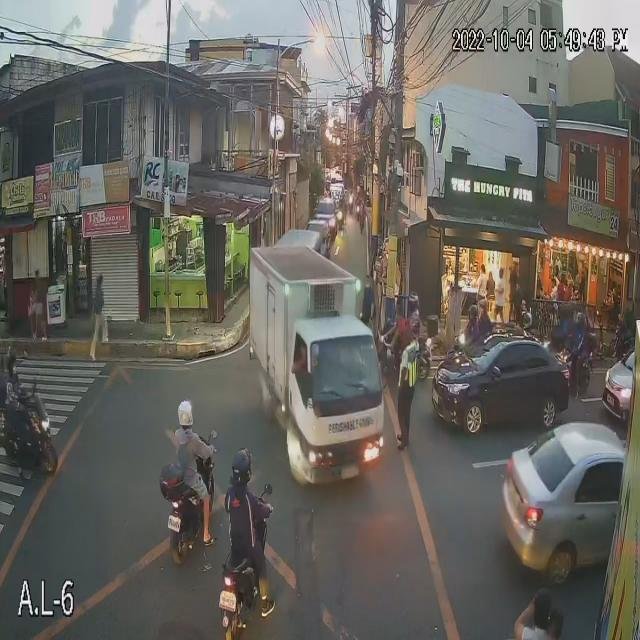helmet: (230, 449, 253, 487), (179, 401, 193, 431), (7, 348, 16, 379), (407, 291, 419, 314), (576, 316, 589, 335), (478, 298, 489, 315), (466, 306, 477, 323)
motorcycle: (218, 484, 273, 640), (161, 441, 217, 562), (0, 394, 57, 478), (380, 318, 435, 376), (547, 333, 597, 394), (445, 332, 482, 369)
rider: (169, 401, 213, 516), (227, 449, 269, 563), (3, 349, 23, 430), (410, 287, 425, 335), (571, 313, 589, 353), (465, 305, 479, 339), (475, 299, 489, 332)
